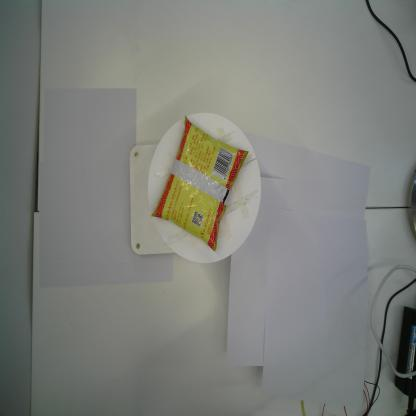Seasoner: (150, 115, 249, 252)
